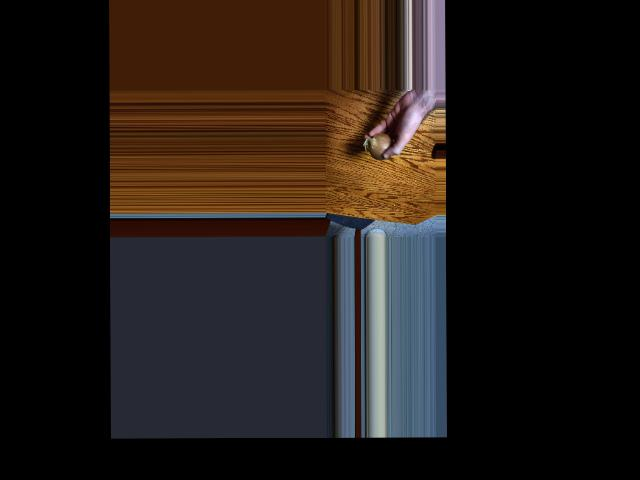onion: (368, 134, 394, 160)
